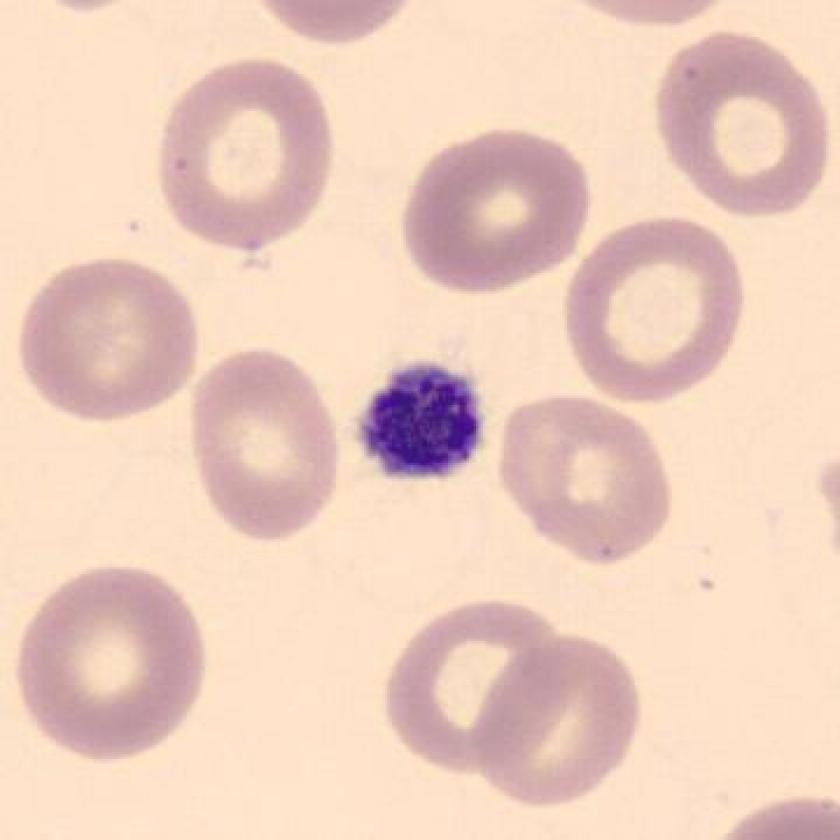platelets: (360, 357, 489, 487)
